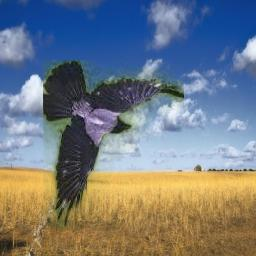Crow: (44, 60, 185, 230)
